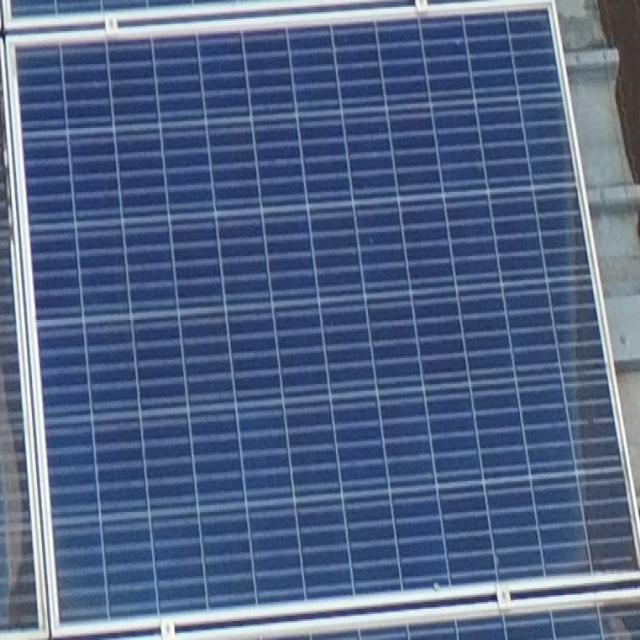Dust: (558, 176, 640, 597)
